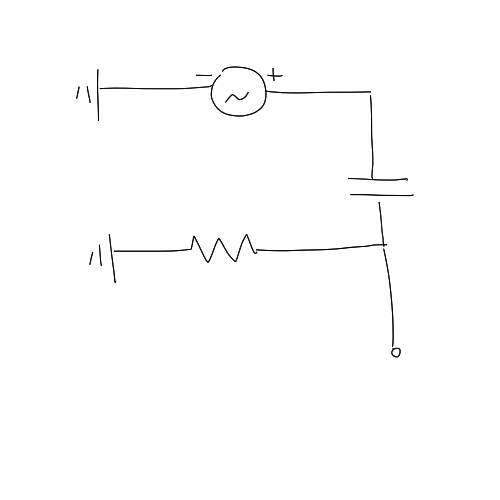acvs: (190, 61, 288, 120)
cap: (340, 169, 419, 202)
gnd: (65, 62, 106, 125), (83, 225, 121, 287)
probe: (385, 344, 404, 359)
res: (177, 232, 265, 268)
